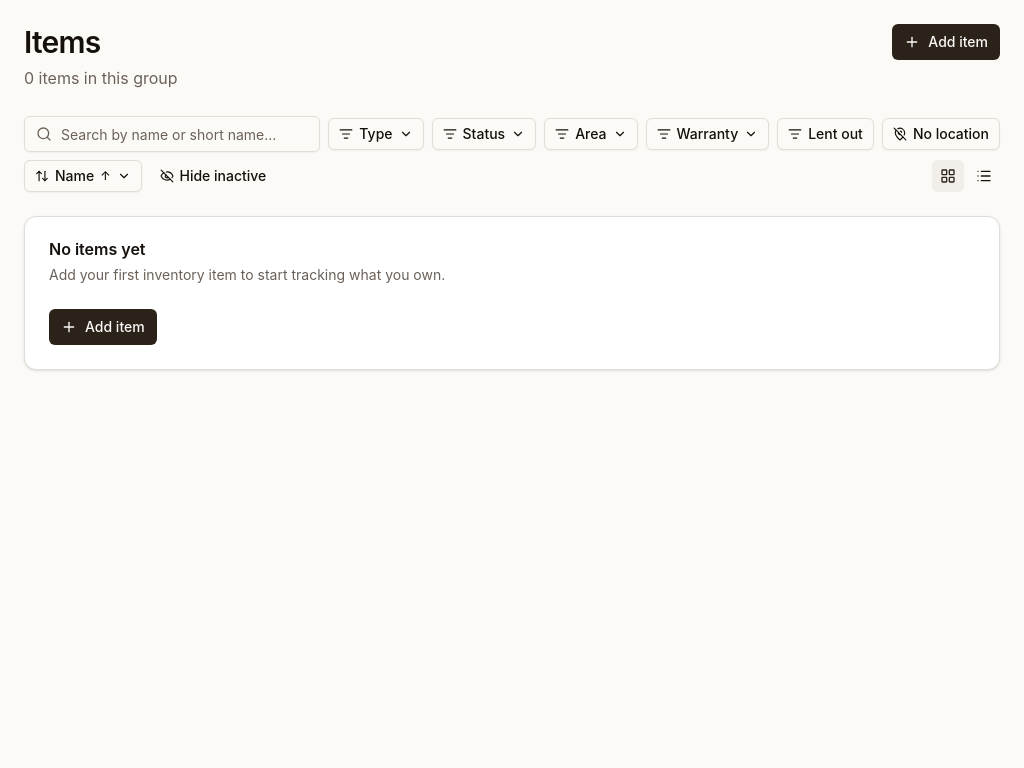
Test case: <CommoditiesListPage /> › opens the create dialog when the Add Item button is clicked
The image size is (1024, 768).
Check: the element with test id "commodities-empty" is shown, box [24,216,1000,370]
Click the button with test id "commodities-add-button".
click(946, 42)  # box [892,24,1000,60]
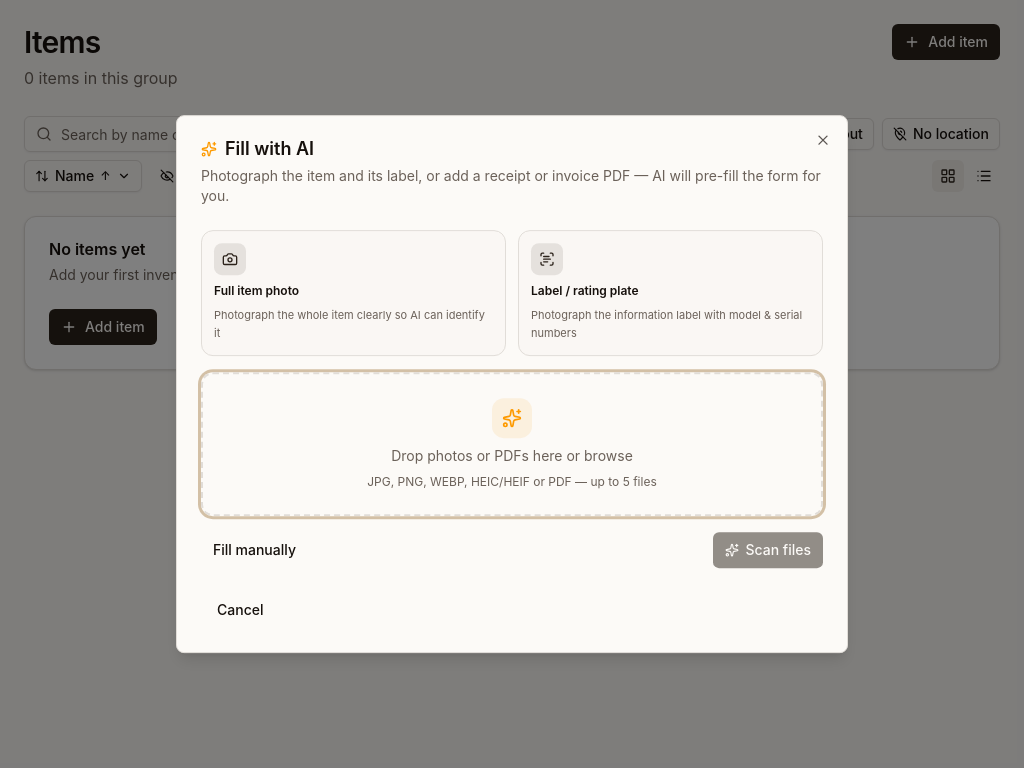
Click the button with test id "commodity-form-ai-fill-manually".
click(254, 550)  # box [201,534,308,566]
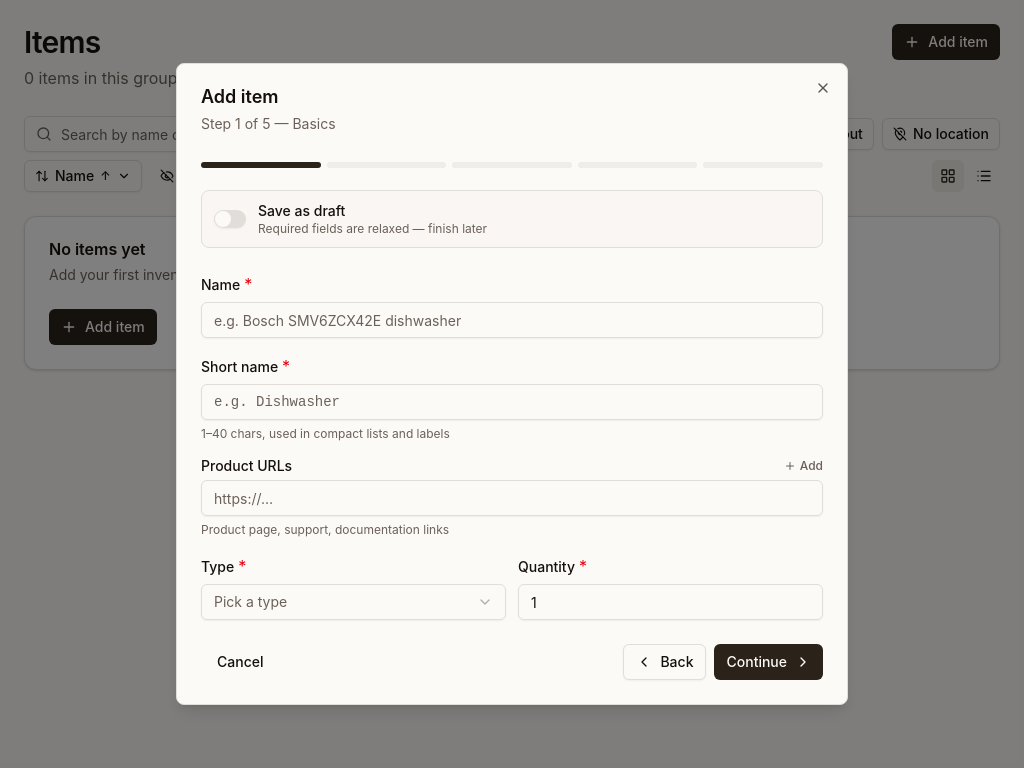
Check: the list named "form steps" is shown, box [201,162,823,168]
